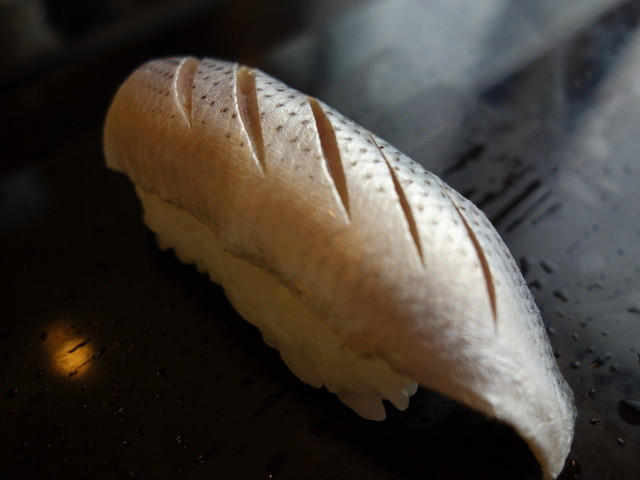spotted-shad: (99, 50, 577, 480)
